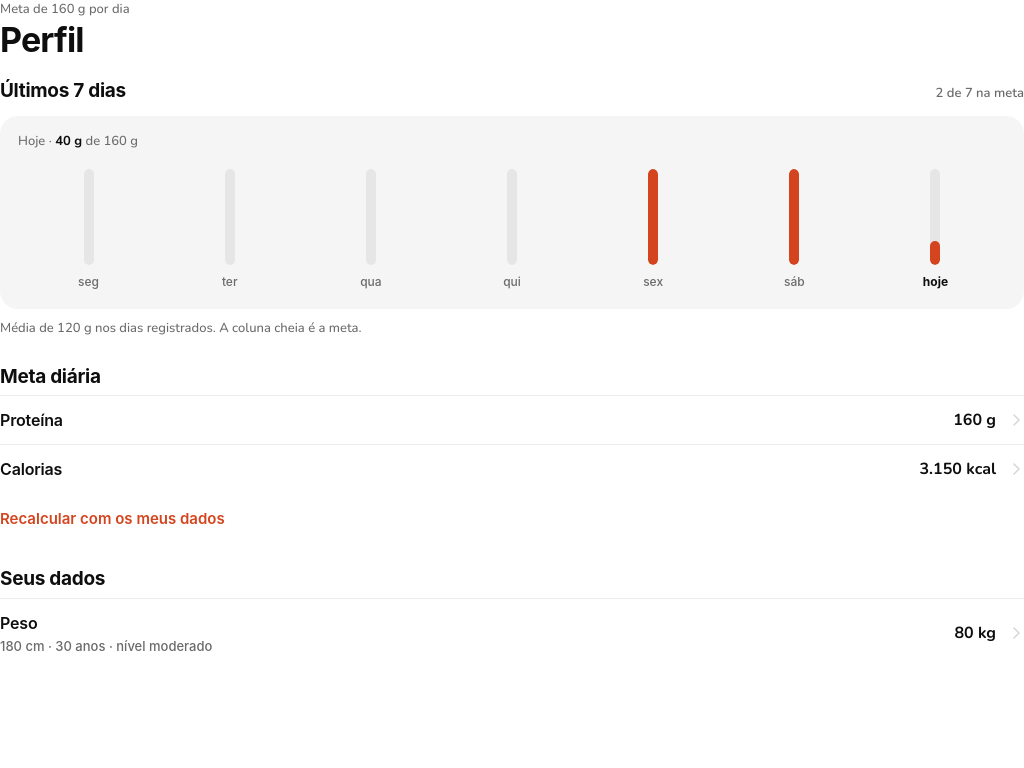
Test: PerfilView › erro da ação aparece em role=alert dentro da folha e a folha continua aberta
What coordinates should you click on to do the following:
click the button with aria-label "Editar peso, 80 kg"
I would click on:
 (19, 623)
Its box is 0,598 -> 1023,668.
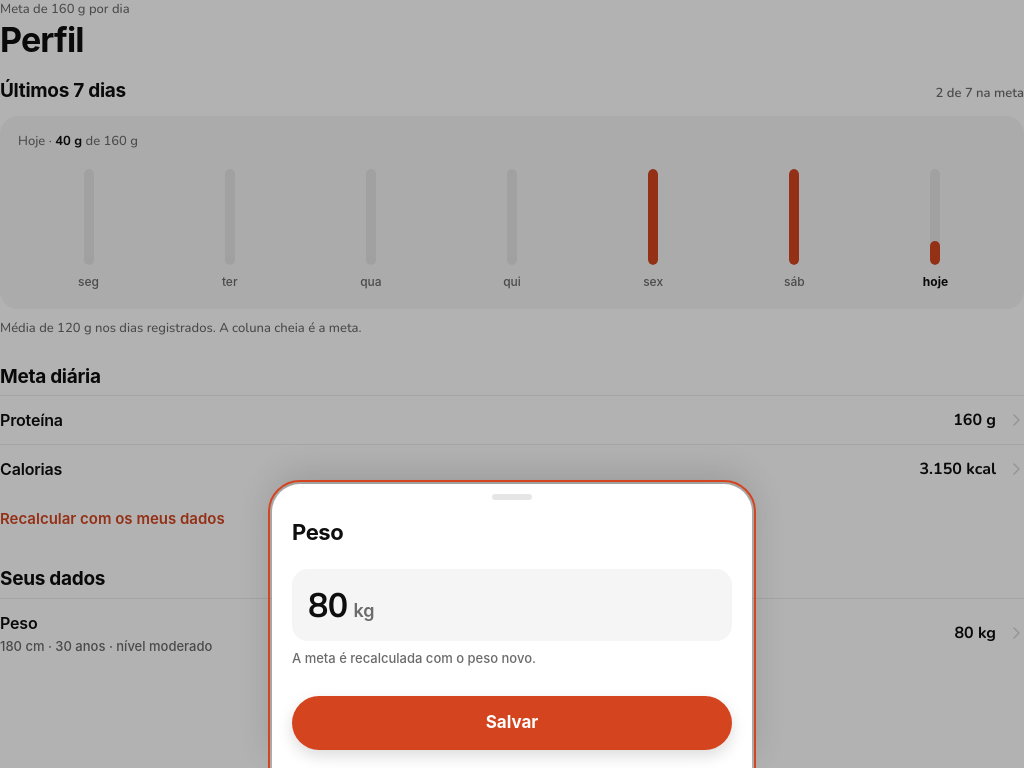
What coordinates should you click on to do the following:
click the button "Salvar"
I would click on:
 (512, 723)
Its box is 292,696 -> 732,750.
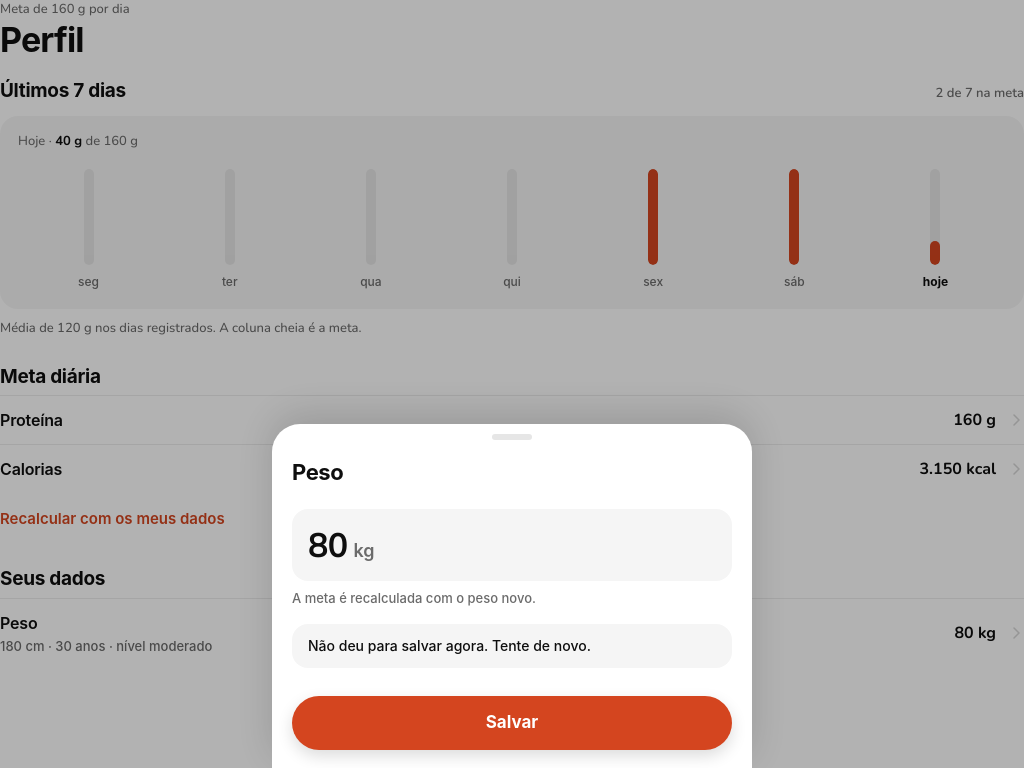
Expected: the dialog "Peso" is shown, 272,424 -> 752,767
Expected: the message reads "Não deu para salvar agora. Tente de novo.", 308,637 -> 591,654
